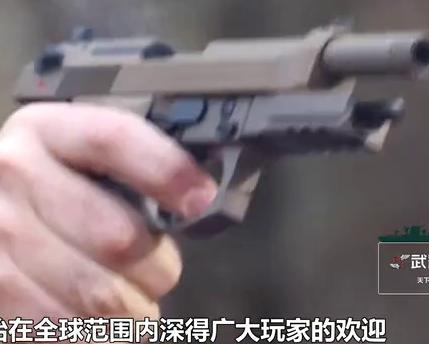gun: (1, 1, 429, 344)
